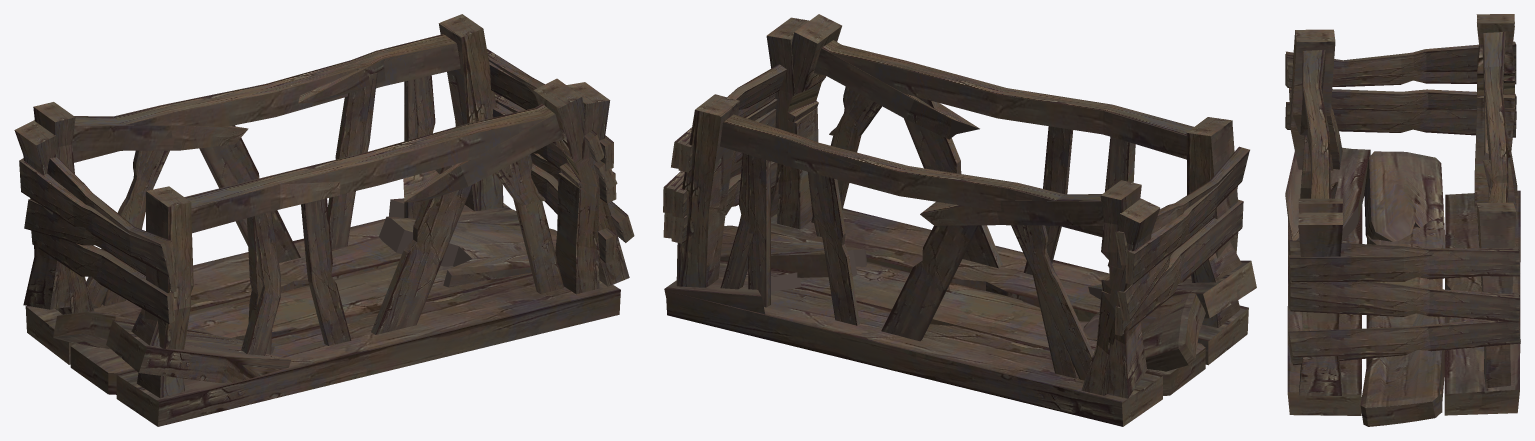
The model's file is PLT_ALL.fbx.
3 views of the same model, side by side, from view 1: azimuth 30°, elevation 25°; view 2: azimuth 150°, elevation 25°; view 3: azimuth 270°, elevation 25° (orthographic). The views are drawn at different scales.
Visible parts, largest first — view 1: Platform, Broke_Platform_L, Broke_Platform.F; view 2: Platform, Broke_Platform_L, Broke_Platform.F; view 3: Broke_Platform.F, Platform, Broke_Platform_L.
Part boxes in pixels (bbox=[...]): Platform: bbox=[14, 23, 620, 426]; Broke_Platform_L: bbox=[23, 102, 340, 383]; Broke_Platform.F: bbox=[298, 14, 634, 287]; Platform: bbox=[666, 17, 1249, 426]; Broke_Platform_L: bbox=[920, 104, 1256, 398]; Broke_Platform.F: bbox=[663, 14, 979, 314]; Broke_Platform.F: bbox=[1288, 159, 1520, 426]; Platform: bbox=[1285, 24, 1520, 415]; Broke_Platform_L: bbox=[1285, 14, 1517, 248].
Size of the model in its own units: 32.54 by 14.92 by 14.56.
